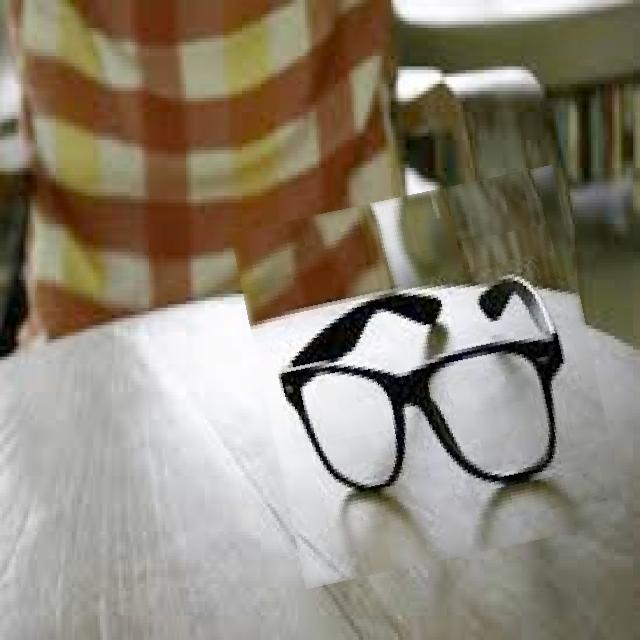glasses: (247, 180, 610, 574)
